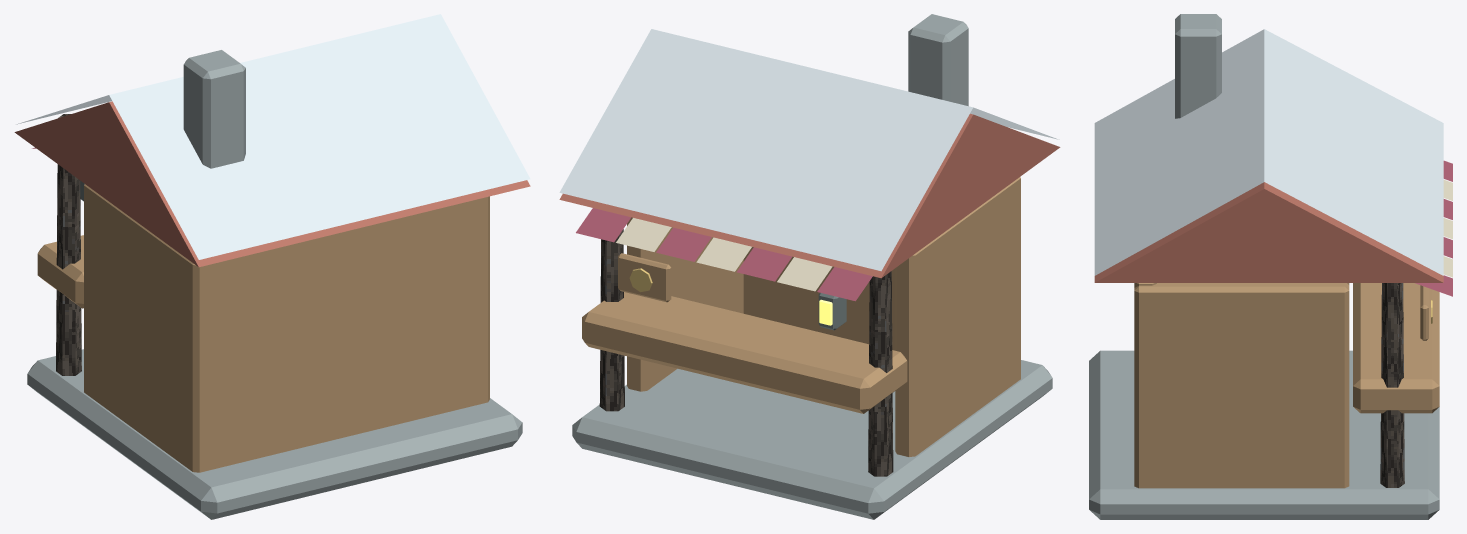
The model's file is loja_mascate.fbx.
3 views of the same model, side by side, from view 1: azimuth 30°, elevation 25°; view 2: azimuth 150°, elevation 25°; view 3: azimuth 270°, elevation 25° (orthographic). The views are drawn at different scales.
Parts seen in each view (by area): view 1: neve_loja_mascate; view 2: neve_loja_mascate; view 3: neve_loja_mascate.
Part boxes in pixels (bbox=[...]): neve_loja_mascate: bbox=[14, 14, 530, 519]; neve_loja_mascate: bbox=[559, 14, 1060, 519]; neve_loja_mascate: bbox=[1089, 14, 1452, 519].
Bounding box in the file's own units: 192 × 226 × 193.
